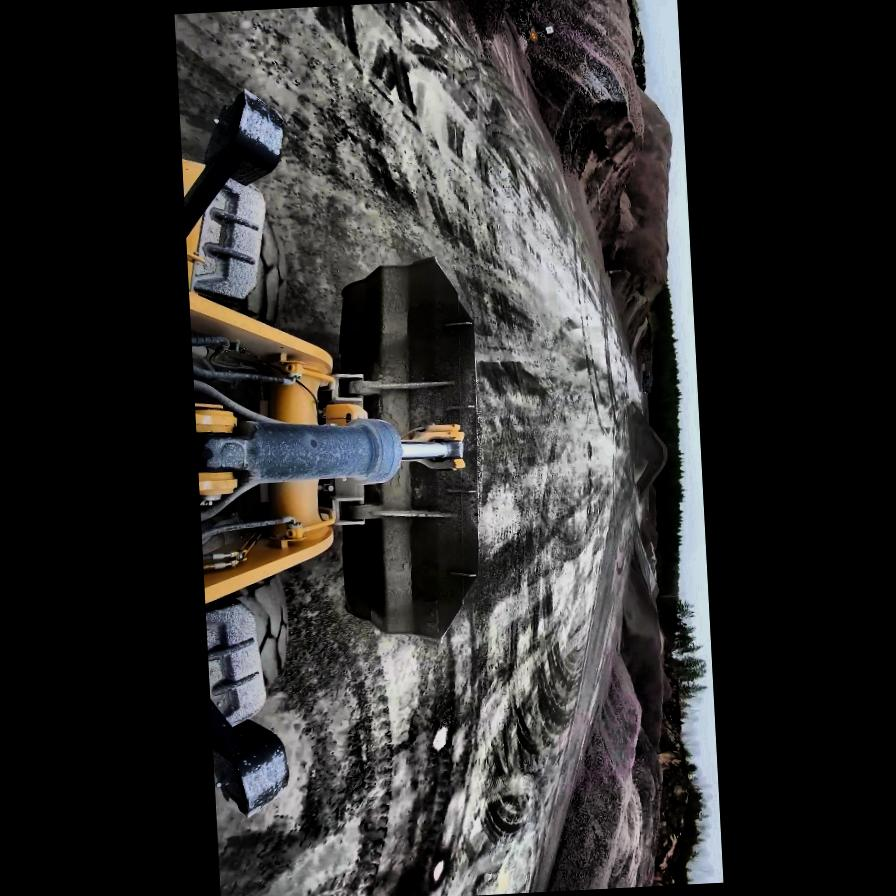anchor: (398, 422, 466, 472)
pile of gravel: (504, 0, 678, 315), (592, 96, 681, 312), (539, 744, 630, 888), (613, 553, 669, 753), (611, 731, 664, 886), (594, 656, 645, 782), (630, 405, 669, 496), (618, 282, 656, 352), (618, 0, 646, 92), (652, 830, 679, 874), (639, 500, 660, 556), (642, 534, 660, 594), (635, 318, 654, 365), (654, 434, 668, 478), (658, 625, 666, 655)
